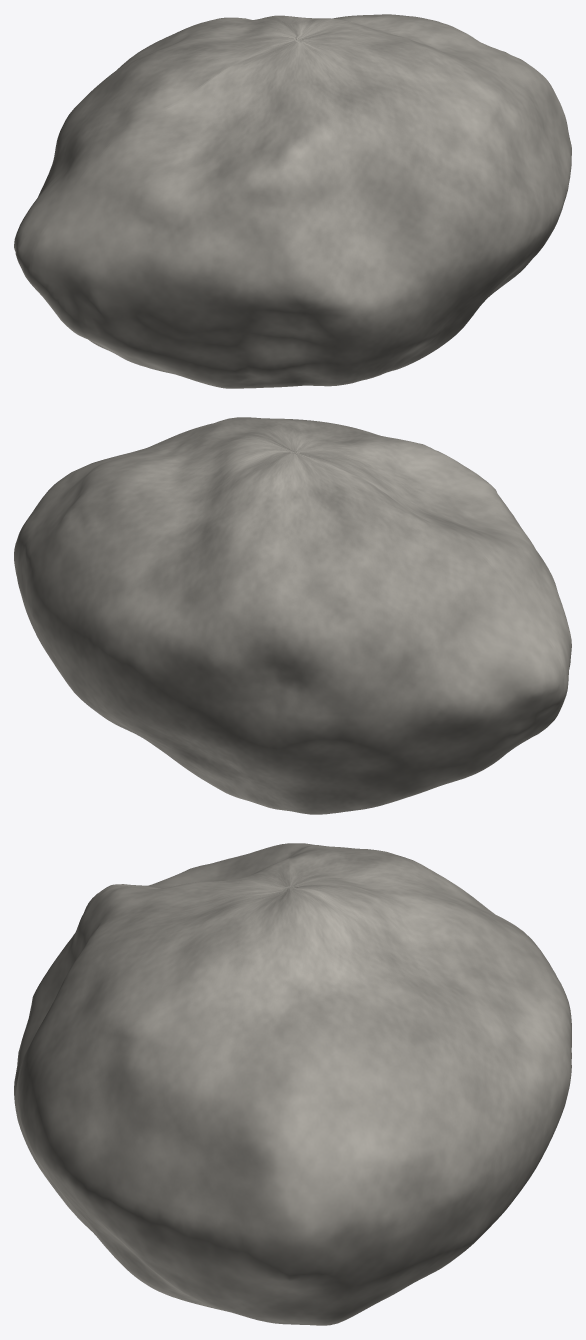
3 views of the same model, one above another, from view 1: azimuth 30°, elevation 25°; view 2: azimuth 150°, elevation 25°; view 3: azimuth 270°, elevation 25° (orthographic). The views are drawn at different scales.
Parts seen in each view (by area): view 1: Pandora; view 2: Pandora; view 3: Pandora.
Boxes of the visible parts, left/top/right/bottom form: Pandora: left=14, top=14, right=571, bottom=388; Pandora: left=14, top=417, right=571, bottom=814; Pandora: left=14, top=843, right=571, bottom=1325.
Bounding box in the file's own units: 112 × 66.05 × 82.72.
Materials: 1 (1 with a texture image).
